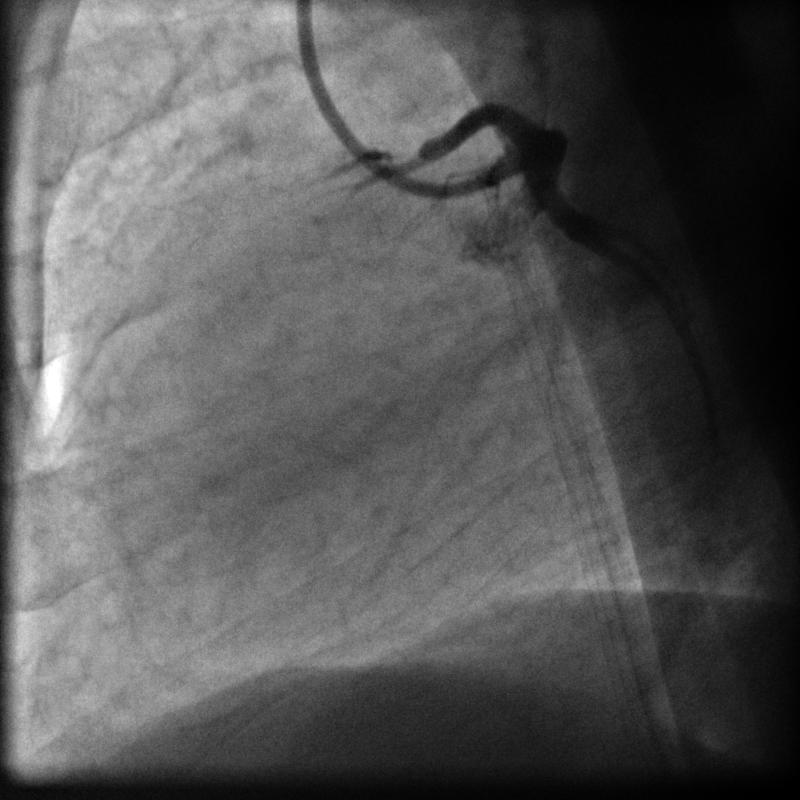Stenosis: (361, 149, 431, 183)
